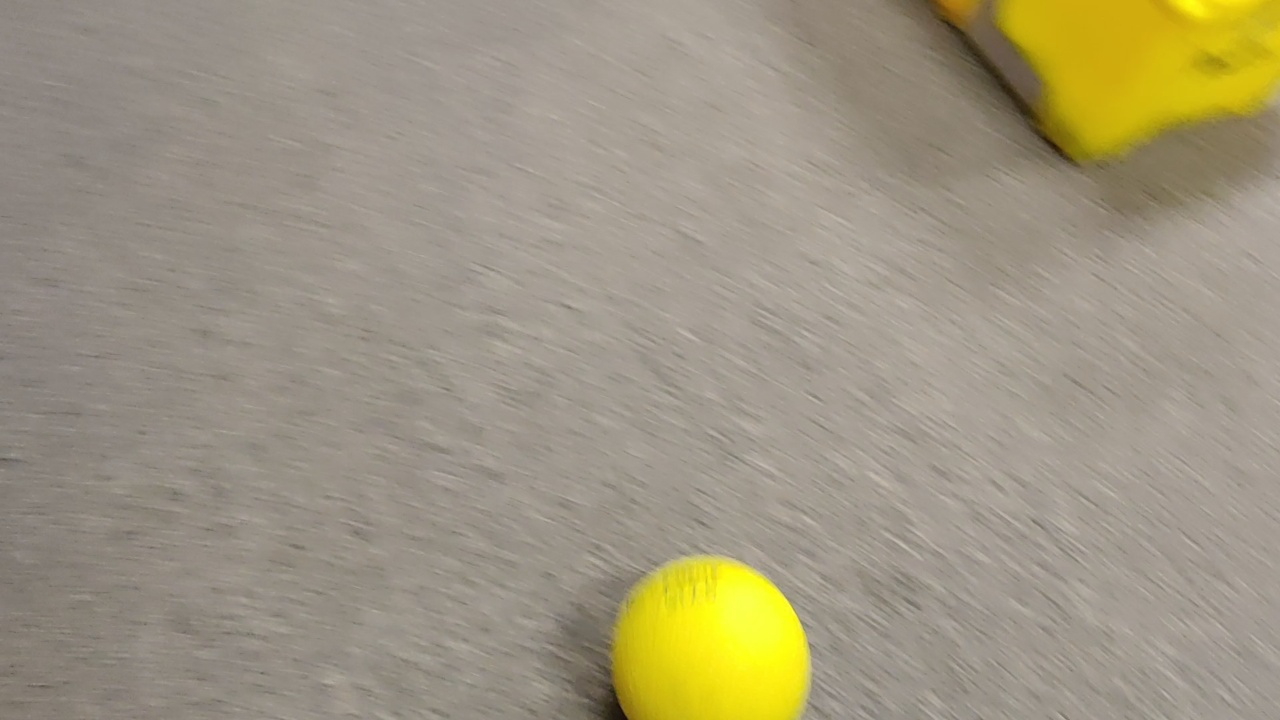Ball: (616, 553, 802, 720)
